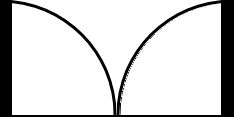door: (6, 1, 223, 115)
